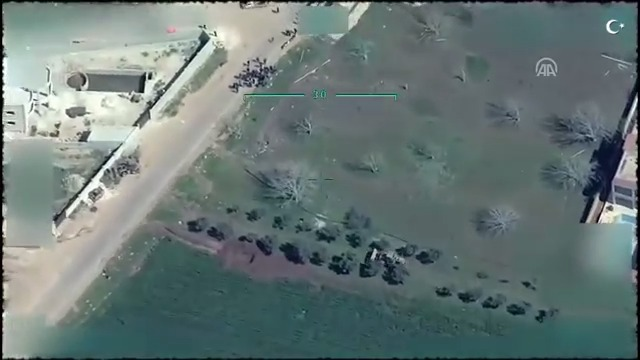arac: (363, 240, 414, 270)
insan: (271, 1, 282, 17)
